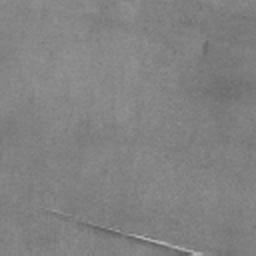Finishing roll printing: (128, 232, 209, 256), (82, 220, 122, 238), (47, 206, 67, 218)
